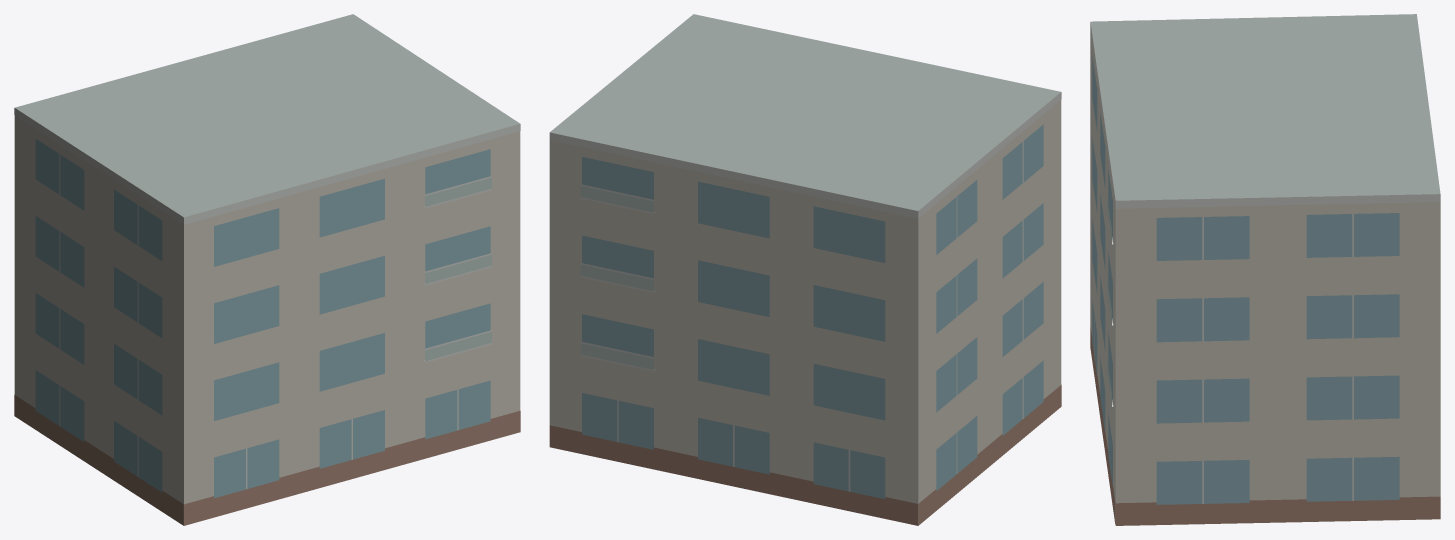
Rendered from survey-upis-32706328.glb.
3 views of the same model, side by side, from view 1: azimuth 30°, elevation 25°; view 2: azimuth 150°, elevation 25°; view 3: azimuth 270°, elevation 25° (orthographic). The views are drawn at different scales.
Parts seen in each view (by area): view 1: survey-upis-32706328.tmp; view 2: survey-upis-32706328.tmp; view 3: survey-upis-32706328.tmp.
Part boxes in pixels (bbox=[...]): survey-upis-32706328.tmp: bbox=[14, 14, 520, 525]; survey-upis-32706328.tmp: bbox=[549, 14, 1061, 525]; survey-upis-32706328.tmp: bbox=[1090, 14, 1440, 525].
Size of the model in its own units: 12.51 by 10.15 by 9.92.
